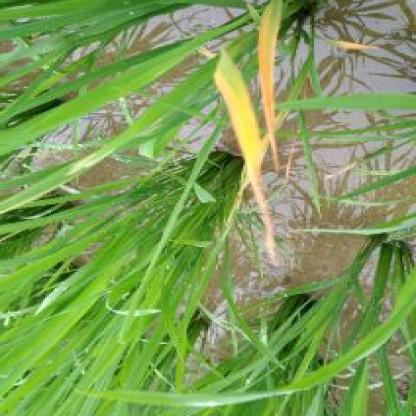Tungro: (215, 1, 287, 249)
